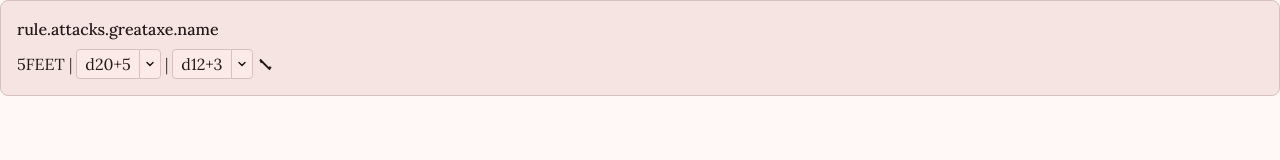
Test: PanelRenderer - dice-line control › rolls damage die
Click the button "d12+3" at [202, 64], box [172,49,232,79]
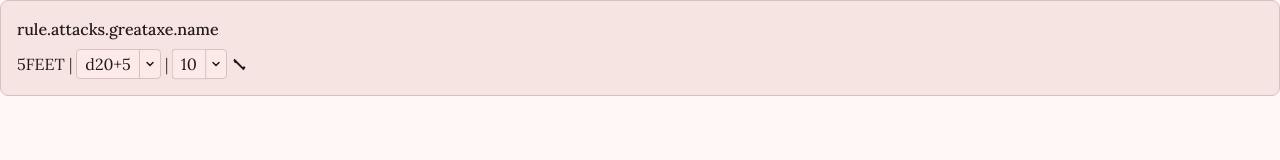
Now the text "10" is shown, box [172,48,207,80]
